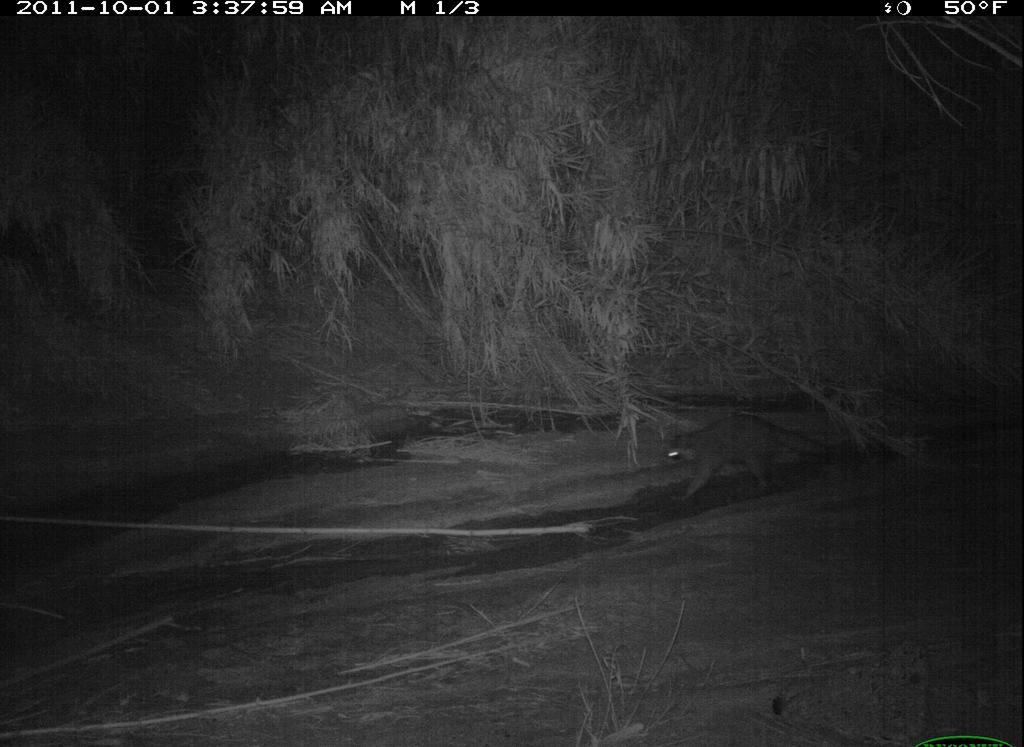raccoon: (661, 400, 830, 509)
